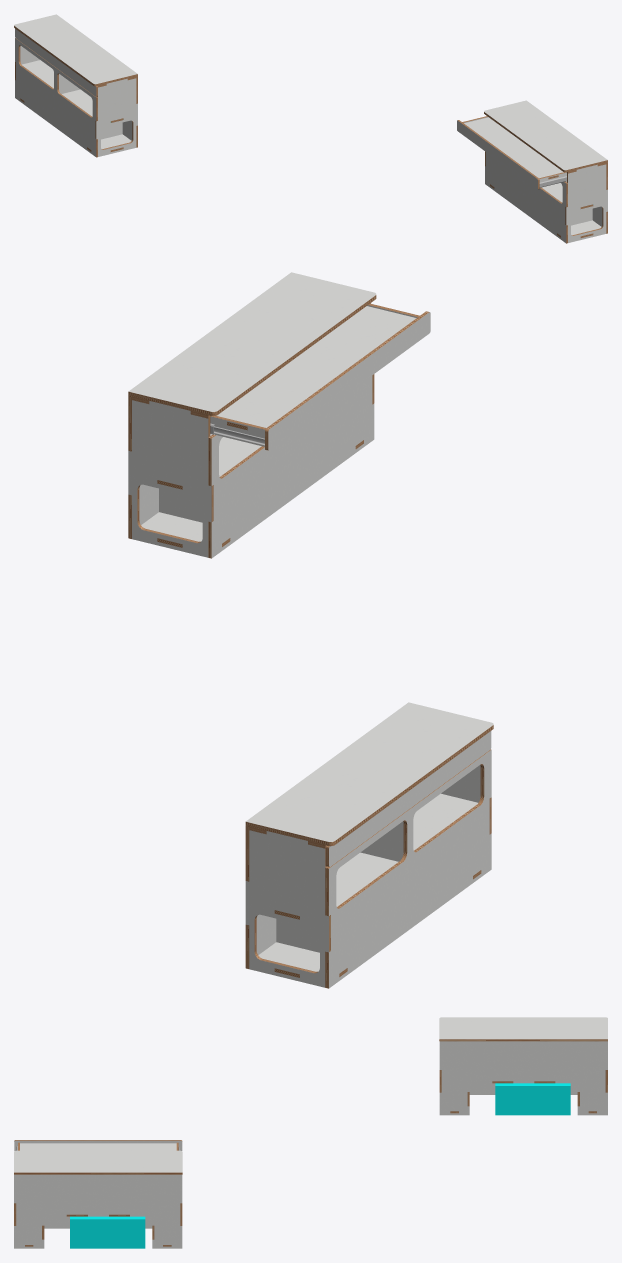
The picture shows the model from 3 angles, top to bottom: view 1: azimuth 30°, elevation 25°; view 2: azimuth 150°, elevation 25°; view 3: azimuth 270°, elevation 25°; orthographic projection. The views are drawn at different scales.
Visible parts, largest first — view 1: Bench_Top (×2), Front (×2), End_RH (×2), Slide_Benchtop, DF_1 (×2), Bottom (×3); view 2: Bench_Top (×2), Front (×2), End_LH (×4), Slide_Benchtop, DF_1 (×2), Bottom (×4), Back (×2), Division; view 3: Back (×2), Bench_Top (×2), Wheel (×2), Slide_Benchtop, Front (×2), DF_1.
Part boxes in pixels (bbox=[...]): Bench_Top (×2): bbox=[14, 14, 607, 172]; Front (×2): bbox=[15, 38, 567, 243]; End_RH (×2): bbox=[95, 78, 607, 242]; Slide_Benchtop: bbox=[464, 117, 563, 179]; DF_1 (×2): bbox=[15, 28, 539, 189]; Bottom (×3): bbox=[22, 60, 601, 237]; Bench_Top (×2): bbox=[128, 272, 493, 846]; Front (×2): bbox=[208, 376, 491, 988]; End_LH (×4): bbox=[128, 400, 330, 987]; Slide_Benchtop: bbox=[216, 306, 416, 430]; DF_1 (×2): bbox=[265, 311, 491, 866]; Bottom (×4): bbox=[141, 434, 477, 977]; Back (×2): bbox=[128, 395, 276, 968]; Division: bbox=[360, 821, 403, 861]; Back (×2): bbox=[14, 1041, 607, 1248]; Bench_Top (×2): bbox=[14, 1017, 607, 1174]; Wheel (×2): bbox=[70, 1083, 570, 1248]; Slide_Benchtop: bbox=[20, 1143, 176, 1150]; Front (×2): bbox=[44, 1083, 577, 1228]; DF_1: bbox=[14, 1140, 182, 1150].
Size of the model in its own units: 2.83 by 0.646 by 4.58.
6 materials, 2 textured.
